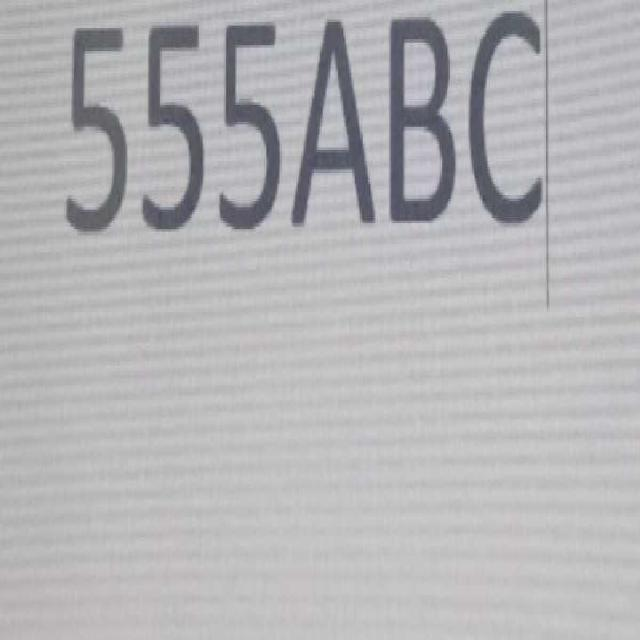license_plate: (59, 6, 545, 272)
